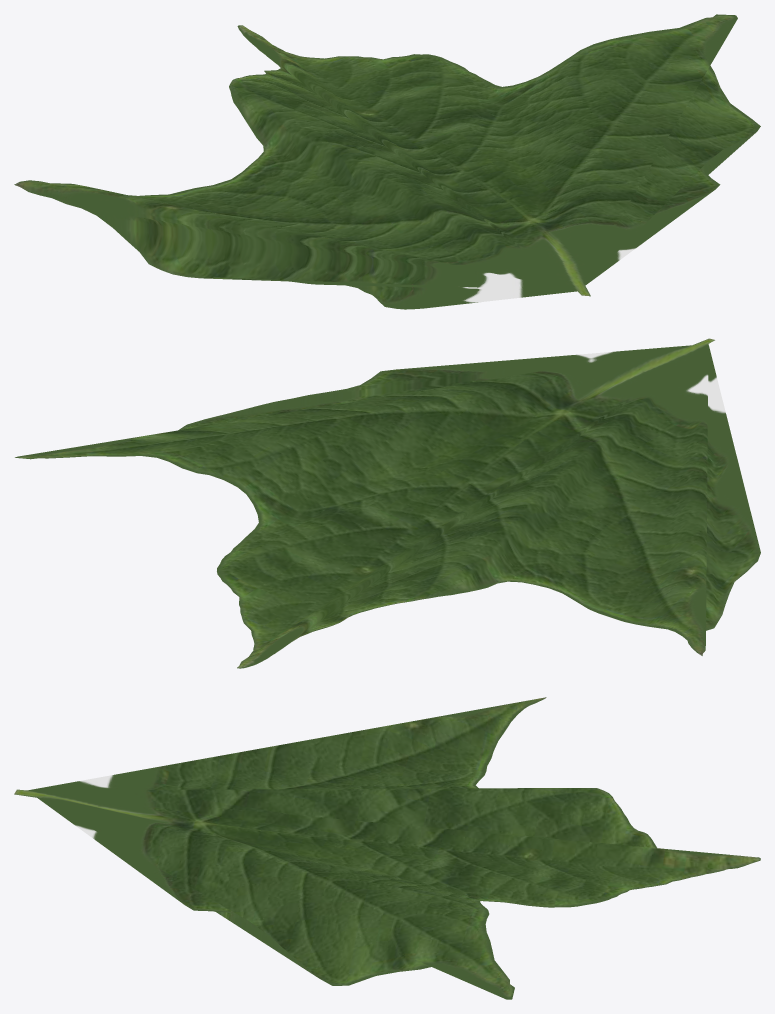
File: leaf.FBX
3 renders of one model, top to bottom at view 1: azimuth 30°, elevation 25°; view 2: azimuth 150°, elevation 25°; view 3: azimuth 270°, elevation 25°, orthographic. The views are drawn at different scales.
Parts seen in each view (by area): view 1: level; view 2: level; view 3: level.
Part boxes in pixels (<box>): level: <box>14,14,760,309</box>; level: <box>15,338,760,668</box>; level: <box>14,697,760,999</box>.
Bounding box in the file's own units: 0.2363 × 0.0245 × 0.2382.
